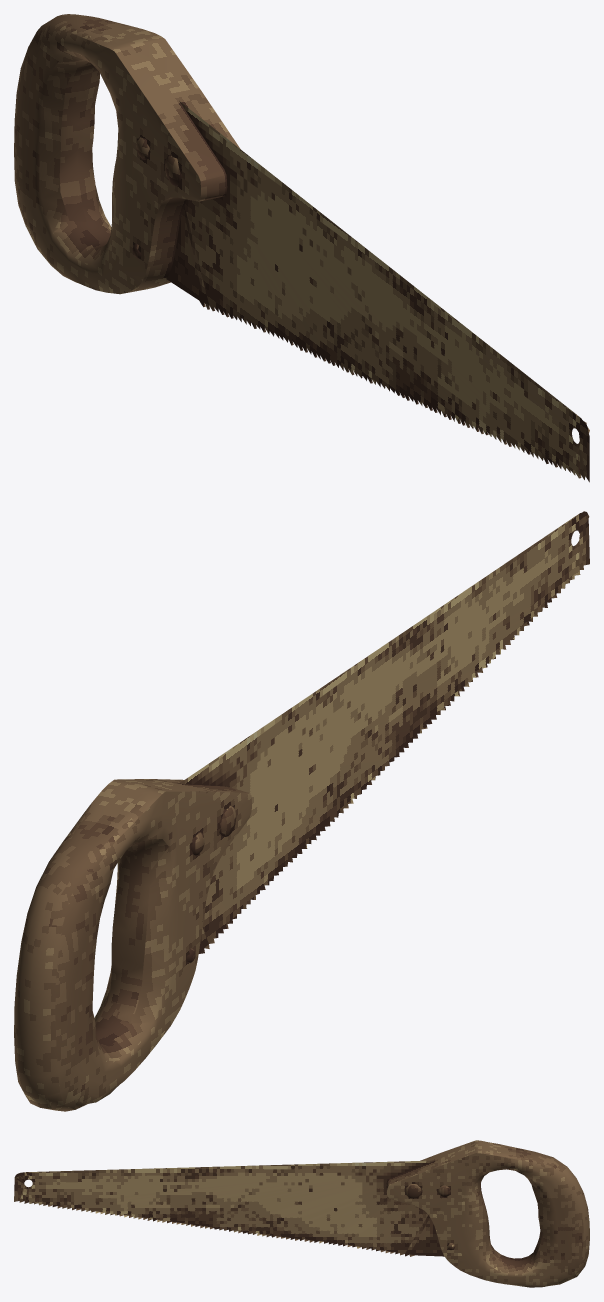
The model's file is handsaw_wood.glb.
3 views of the same model, one above another, from view 1: azimuth 30°, elevation 25°; view 2: azimuth 150°, elevation 25°; view 3: azimuth 270°, elevation 25° (orthographic). The views are drawn at different scales.
Visible parts, largest first — view 1: body; view 2: body; view 3: body.
Boxes of the visible parts, box(x1,y1,x2,y2) form: body: box(14, 14, 589, 482); body: box(14, 511, 589, 1111); body: box(14, 1140, 589, 1287).
Size of the model in its own units: 0.0408 by 0.1665 by 0.633.
1 material, 1 textured.
